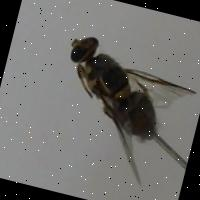Oriental-fruit-fly: (38, 20, 200, 191)
